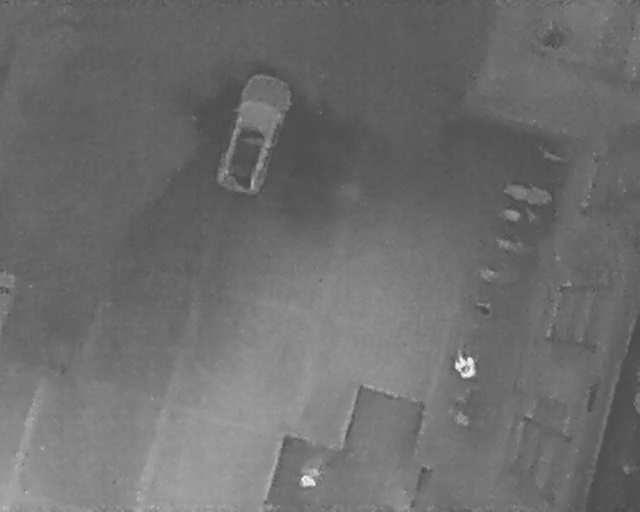Bicycle: (500, 174, 556, 212), (495, 201, 539, 229), (492, 232, 532, 258), (469, 296, 502, 321), (478, 263, 508, 288)
Car: (210, 65, 301, 200)
Person: (451, 352, 478, 380), (298, 472, 318, 488)
